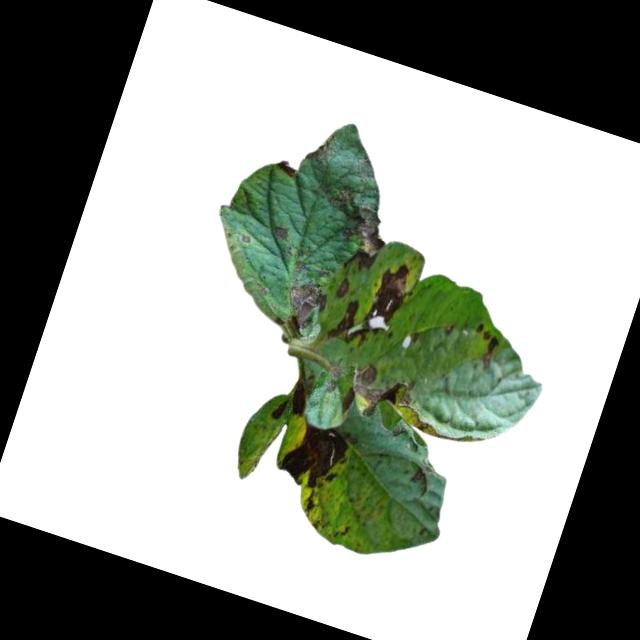Early_blight: (315, 183, 399, 255), (275, 416, 351, 494), (363, 255, 422, 332), (279, 273, 333, 341), (325, 294, 387, 353), (342, 360, 392, 412), (468, 320, 506, 360), (342, 244, 380, 277), (299, 489, 325, 518), (268, 394, 291, 421), (307, 139, 332, 163), (337, 274, 354, 299), (273, 224, 291, 239)
